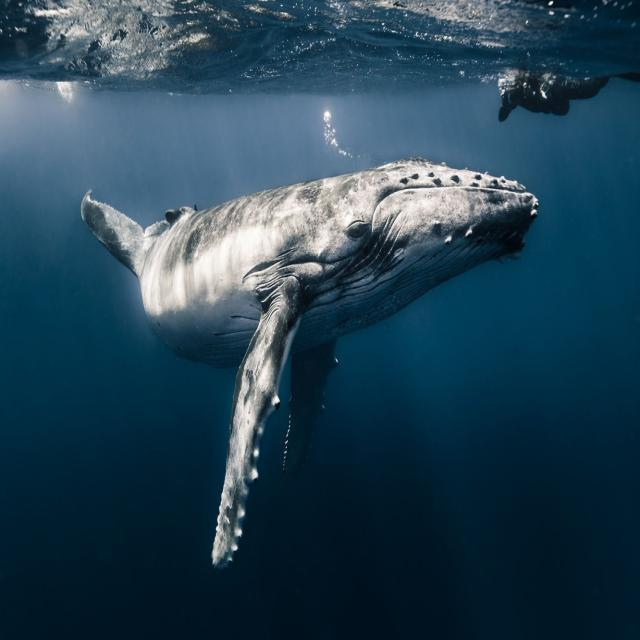blue_whale: (58, 138, 562, 573)
